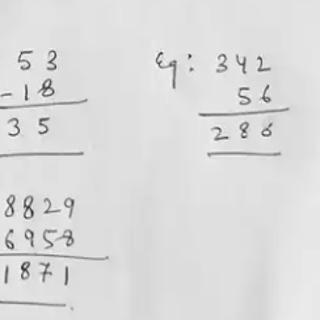.: (184, 49, 195, 62), (187, 64, 199, 75)
1: (22, 83, 30, 104), (2, 264, 10, 285), (63, 265, 68, 286)
2: (209, 125, 228, 142), (255, 54, 271, 73), (43, 197, 58, 216)
3: (43, 48, 58, 73), (7, 116, 22, 139), (217, 52, 228, 73)
4: (236, 51, 248, 75)
5: (16, 47, 36, 74), (40, 227, 57, 254), (236, 86, 253, 106), (38, 117, 51, 135)
6: (4, 228, 16, 251), (260, 122, 275, 139), (260, 84, 273, 103)
7: (37, 259, 53, 283)
8: (22, 195, 35, 221), (42, 78, 56, 101), (6, 193, 17, 218), (61, 228, 74, 249), (238, 121, 251, 140), (20, 260, 31, 280)
9: (23, 228, 35, 248), (64, 195, 74, 218)
